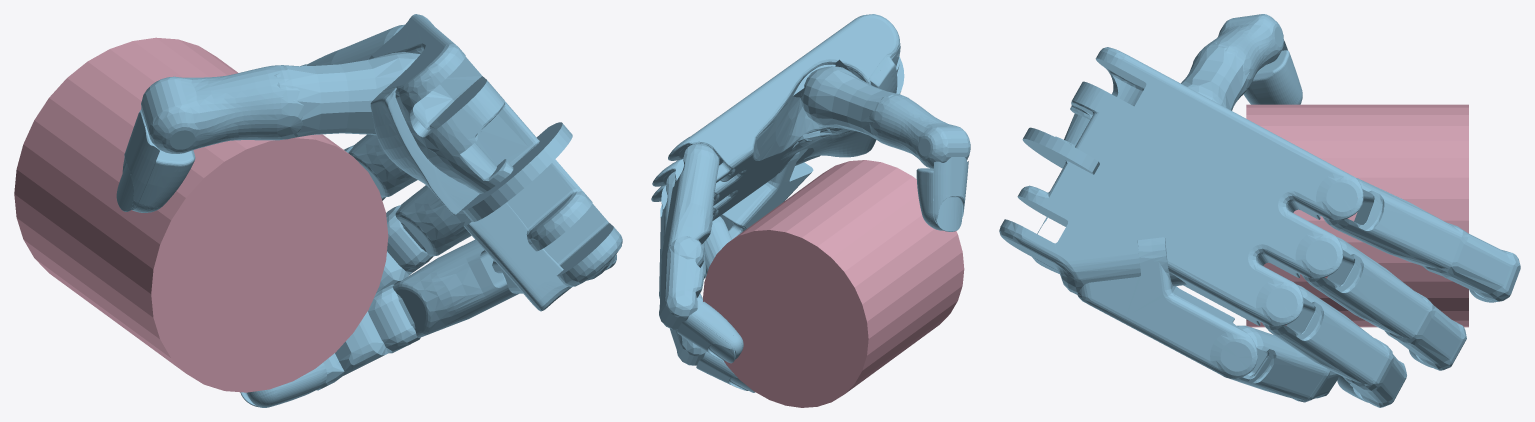
3 views of the same model, side by side, from view 1: azimuth 30°, elevation 25°; view 2: azimuth 150°, elevation 25°; view 3: azimuth 270°, elevation 25° (orthographic). The views are drawn at different scales.
Visible parts, largest first — view 1: world; view 2: world; view 3: world.
Boxes of the visible parts, left/top/right/bottom form: world: left=14, top=14, right=622, bottom=407; world: left=651, top=14, right=970, bottom=407; world: left=999, top=14, right=1520, bottom=407.
Bounding box in the file's own units: 0.1447 × 0.1382 × 0.1872.
